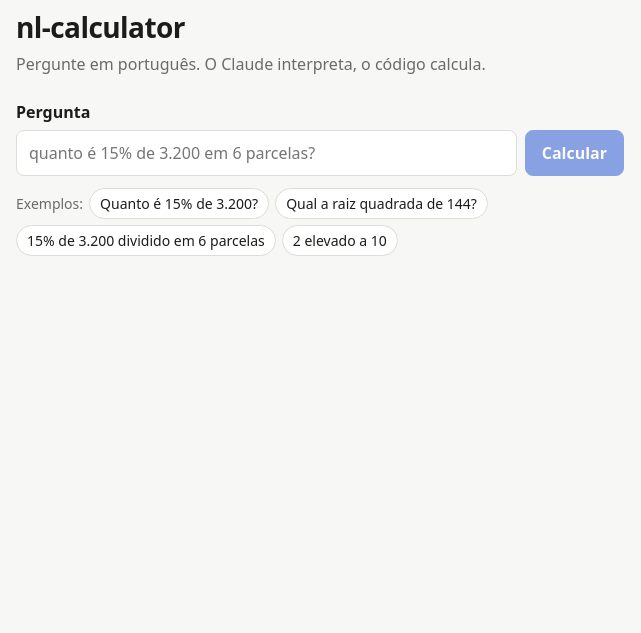
Test case: submits an example on click
Click the button "Qual a raiz quadrada de 144?".
click(382, 204)  # box [275, 188, 488, 219]
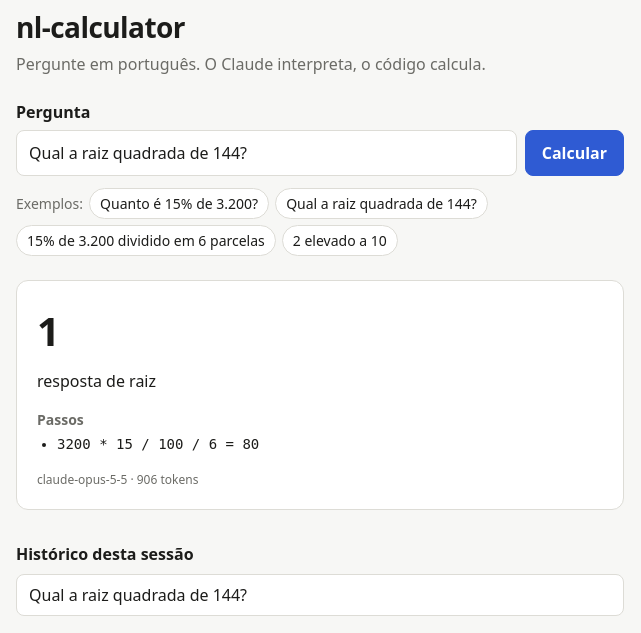
Expected: the text "1" is shown, [37, 303, 60, 358]
Expected: the field labelled "Pergunta" holds "Qual a raiz quadrada de 144?", [16, 130, 517, 176]
